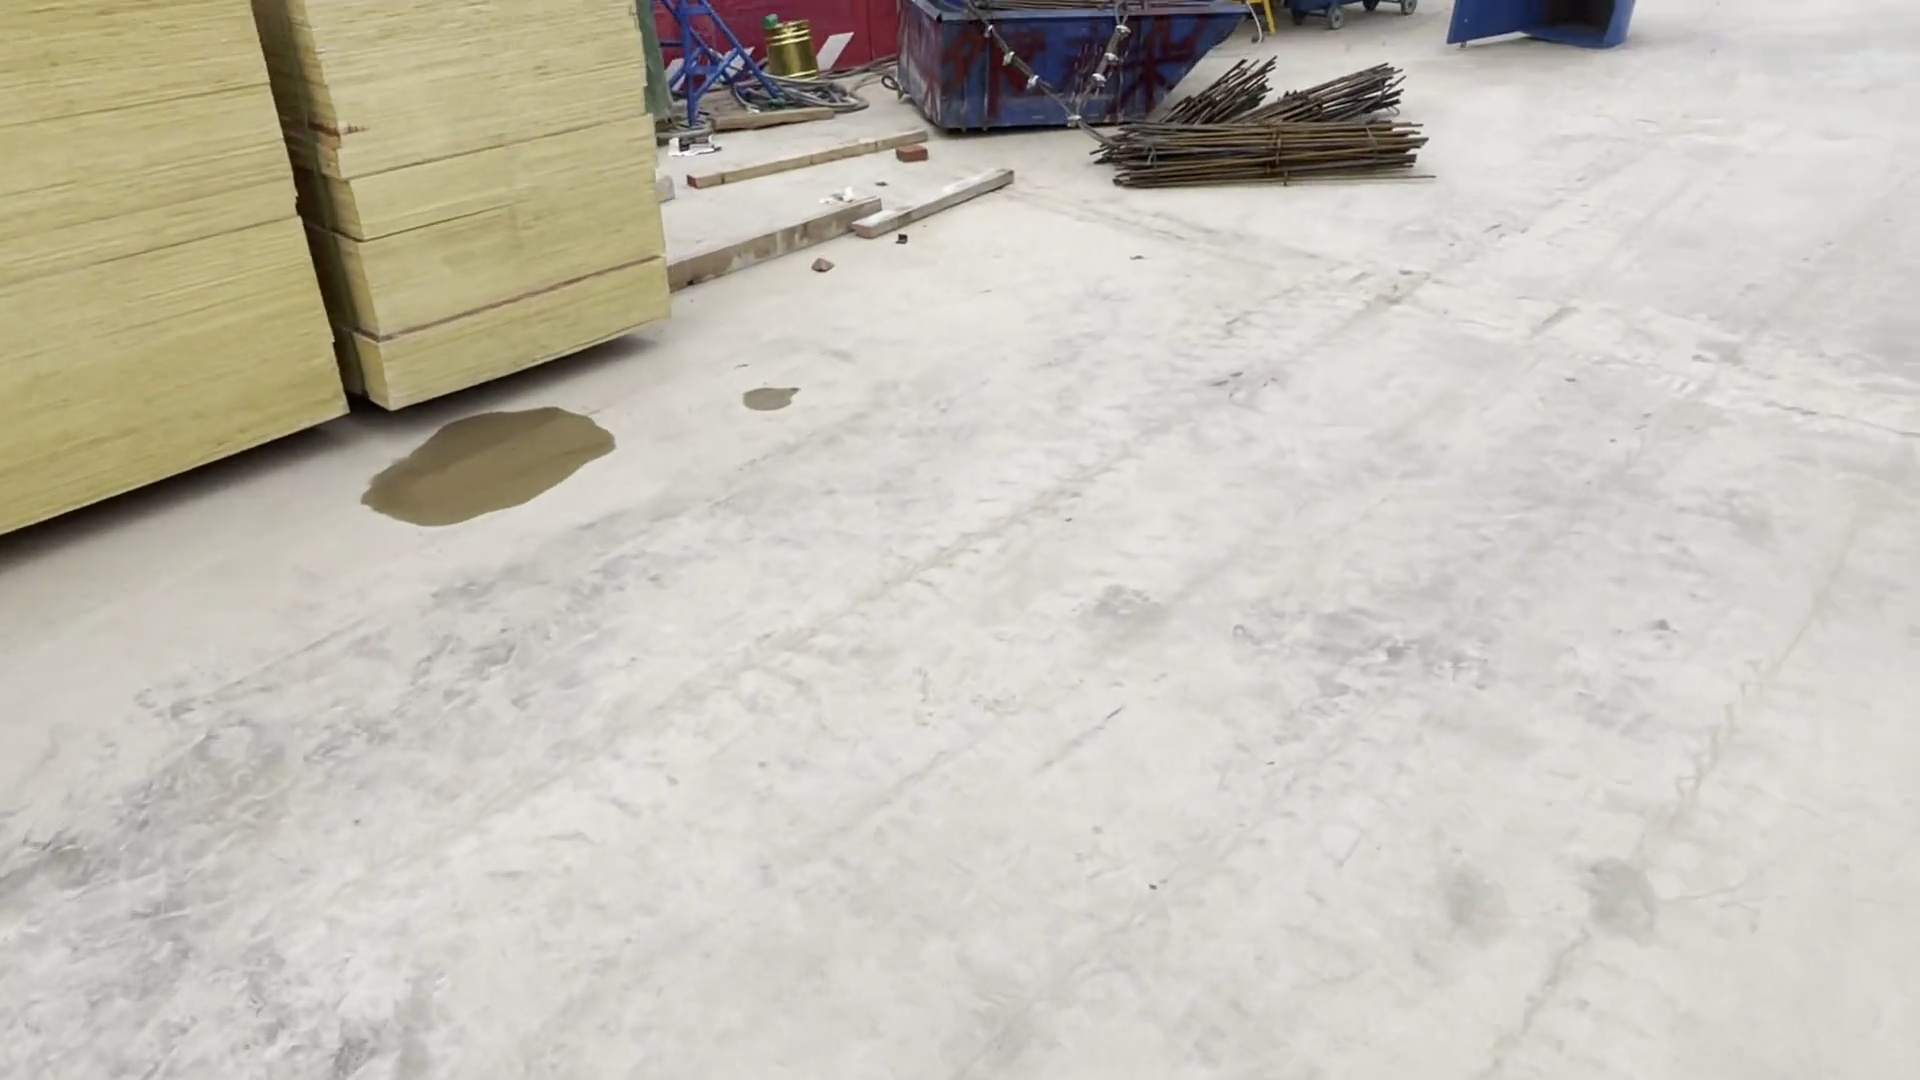hopper: (880, 1, 1216, 133)
